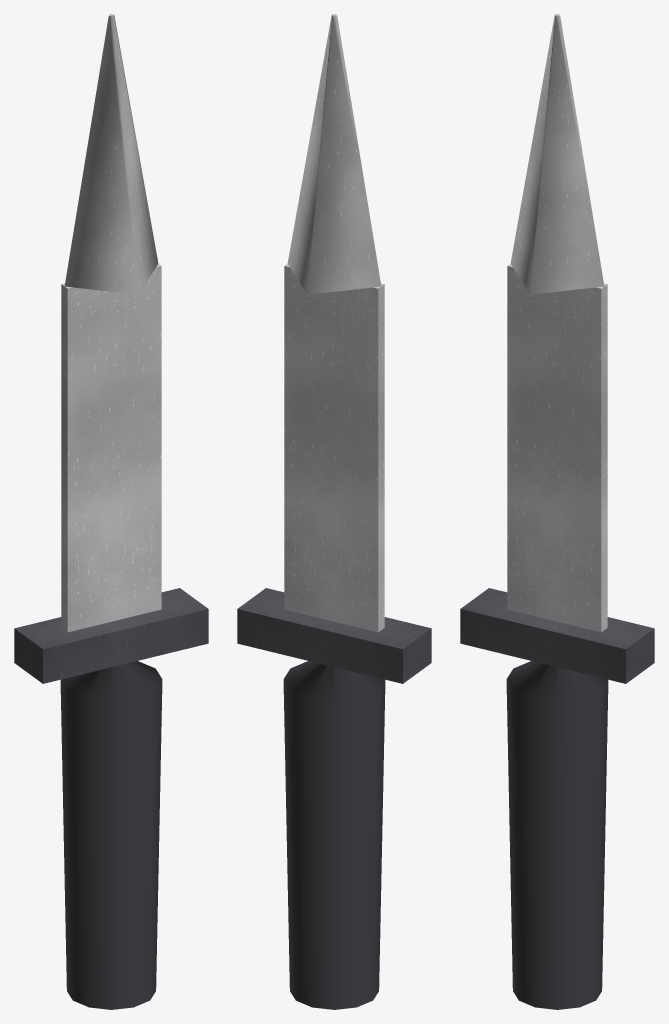
Rendered from knife.glb.
3 views of the same model, side by side, from view 1: azimuth 30°, elevation 25°; view 2: azimuth 150°, elevation 25°; view 3: azimuth 330°, elevation 25° (orthographic).
Parts seen in each view (by area): view 1: knife; view 2: knife; view 3: knife.
Part boxes in pixels (x1,y1,x2,y2): knife: (14,14,208,1009); knife: (237,14,431,1009); knife: (460,14,654,1009).
Bounding box in the file's own units: 0.06 × 0.34 × 0.034.
Materials: 3 (2 with a texture image).
